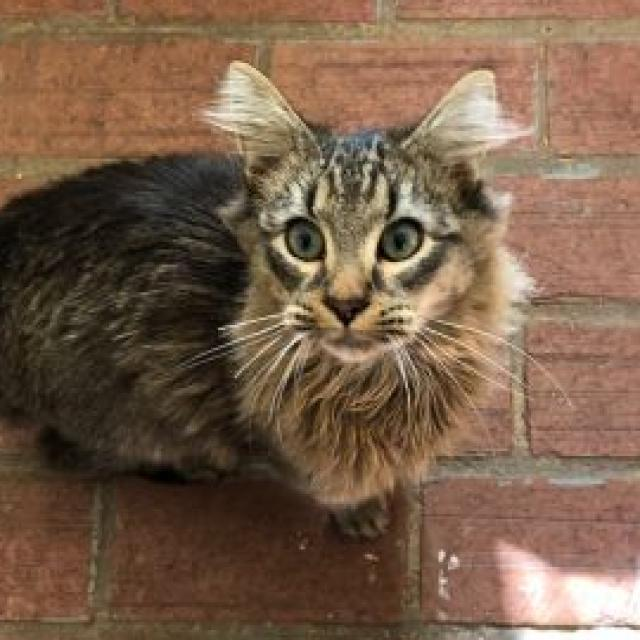Maine Coon: (0, 56, 510, 544)
